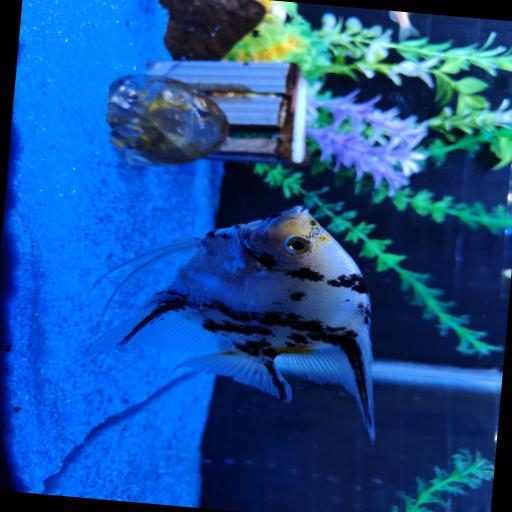Fish: (89, 205, 373, 438), (389, 11, 418, 40), (444, 498, 451, 511)
